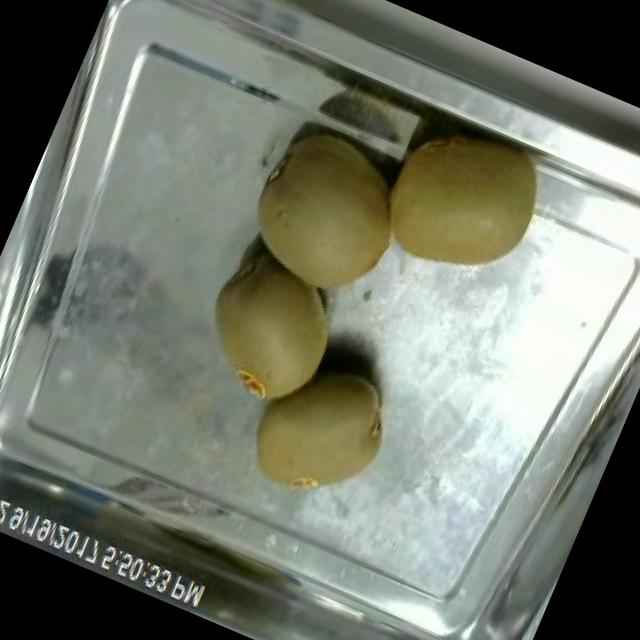Fruit: (222, 108, 432, 322), (358, 104, 568, 308), (229, 336, 416, 528), (178, 240, 358, 425), (608, 103, 640, 198)
